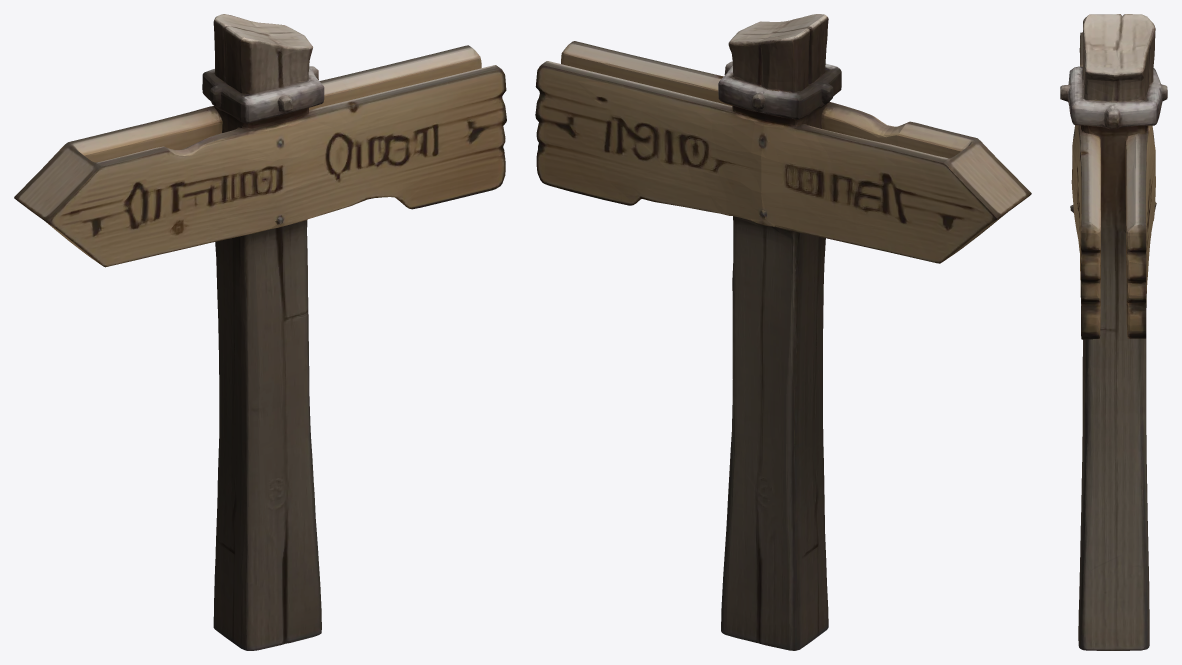
File: signboard.glb
3 views of the same model, side by side, from view 1: azimuth 30°, elevation 25°; view 2: azimuth 150°, elevation 25°; view 3: azimuth 270°, elevation 25° (orthographic). The views are drawn at different scales.
Parts seen in each view (by area): view 1: geometry_0; view 2: geometry_0; view 3: geometry_0.
Part boxes in pixels (left/top/right/bottom): geometry_0: left=14, top=14, right=506, bottom=650; geometry_0: left=535, top=14, right=1031, bottom=650; geometry_0: left=1060, top=14, right=1167, bottom=650.
Bounding box in the file's own units: 0.7847 × 0.9973 × 0.1618.
Materials: 1 (1 with a texture image).
